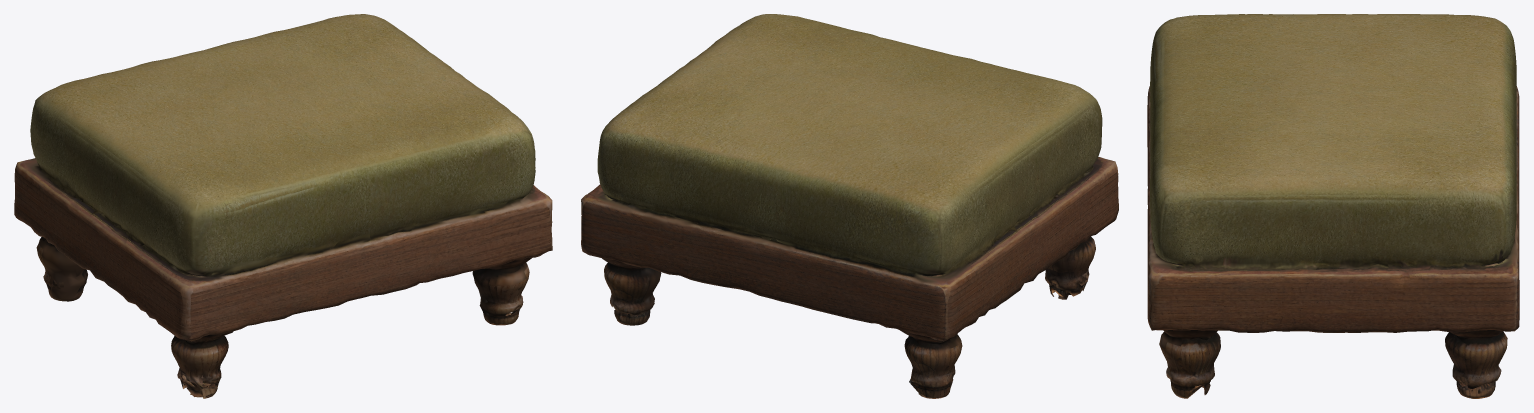
File: Furn_Ottoman.fbx
3 views of the same model, side by side, from view 1: azimuth 30°, elevation 25°; view 2: azimuth 150°, elevation 25°; view 3: azimuth 270°, elevation 25° (orthographic). The views are drawn at different scales.
Visible parts, largest first — view 1: texture_mapping; view 2: texture_mapping; view 3: texture_mapping.
Boxes of the visible parts, x1,y1,x2,y2 form: texture_mapping: (14,14,552,398); texture_mapping: (581,14,1118,398); texture_mapping: (1147,14,1519,398).
Bounding box in the file's own units: 0.9985 × 0.812 × 0.5396.
1 material, 1 textured.
